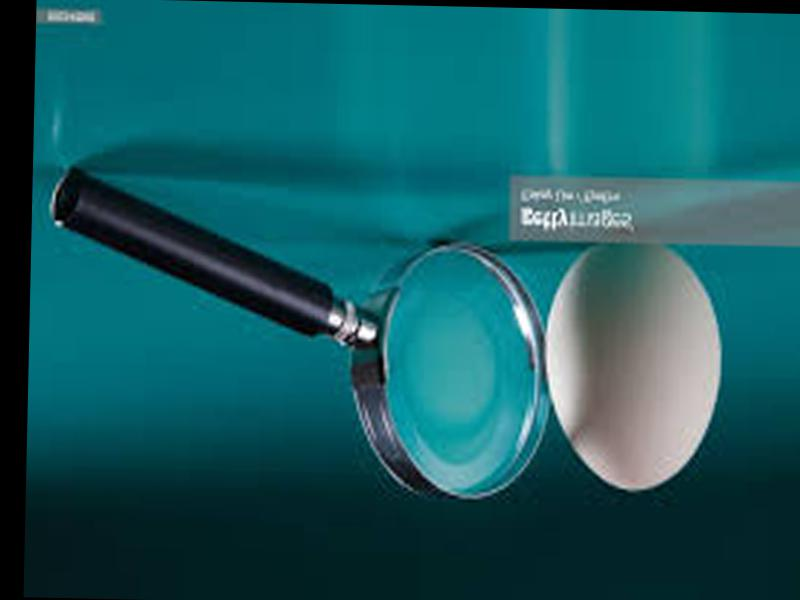Eggs: (541, 237, 724, 493)
